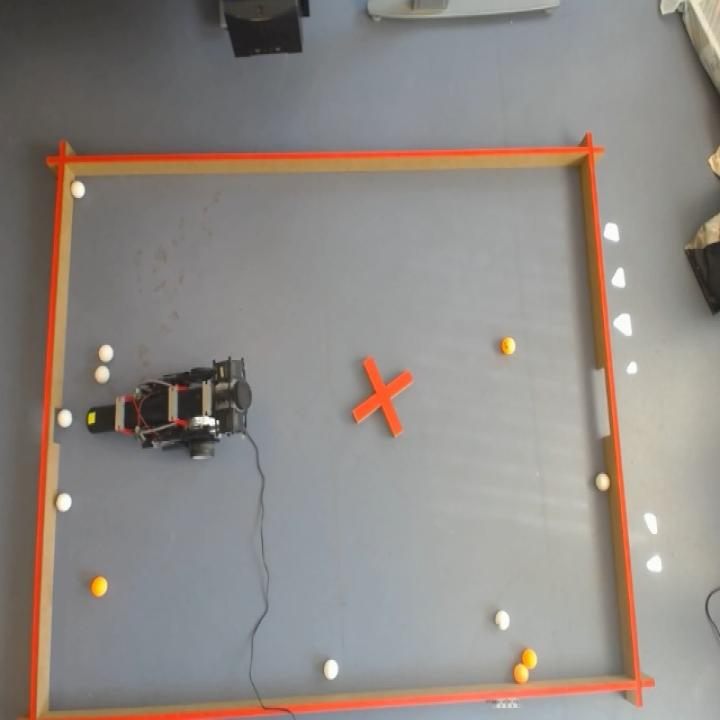orange: (90, 576, 108, 597), (513, 663, 529, 685), (522, 648, 538, 669), (501, 337, 516, 355)
robot: (83, 357, 252, 460)
robot-front: (86, 407, 112, 433)
white: (323, 659, 340, 680), (494, 610, 510, 630), (56, 493, 72, 512), (70, 180, 86, 198), (94, 366, 110, 384), (595, 472, 610, 491), (57, 409, 72, 428), (98, 345, 114, 362)
